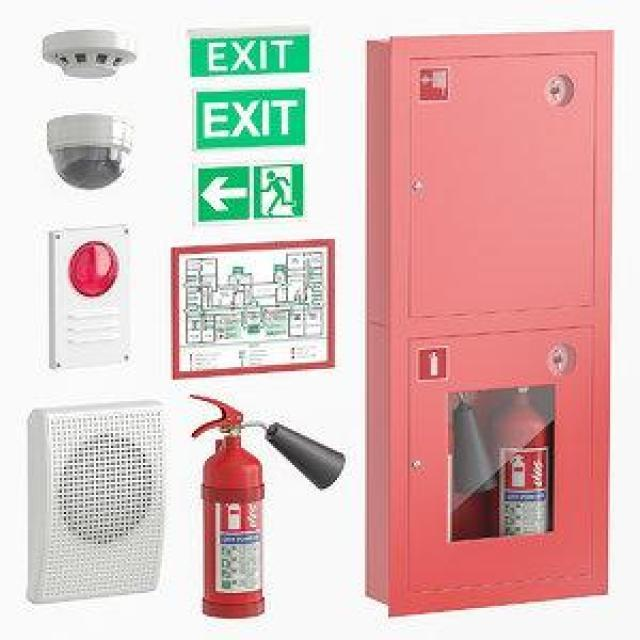fire_extinguisher: (180, 391, 351, 620), (442, 344, 564, 574)
